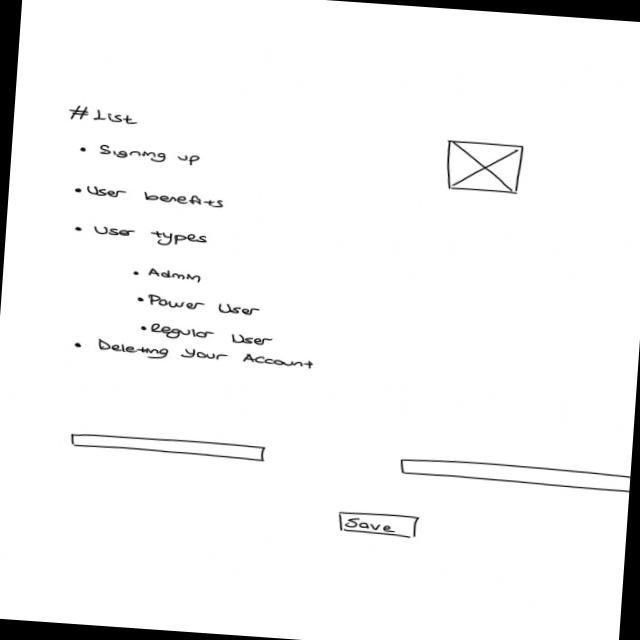button: (337, 510, 422, 541)
image: (442, 139, 525, 196)
input: (397, 457, 631, 494), (69, 432, 267, 461)
label: (95, 339, 317, 372), (85, 184, 228, 210), (149, 322, 276, 350), (91, 225, 209, 250), (147, 293, 262, 318), (99, 144, 203, 168), (67, 105, 141, 128), (149, 267, 205, 286)
